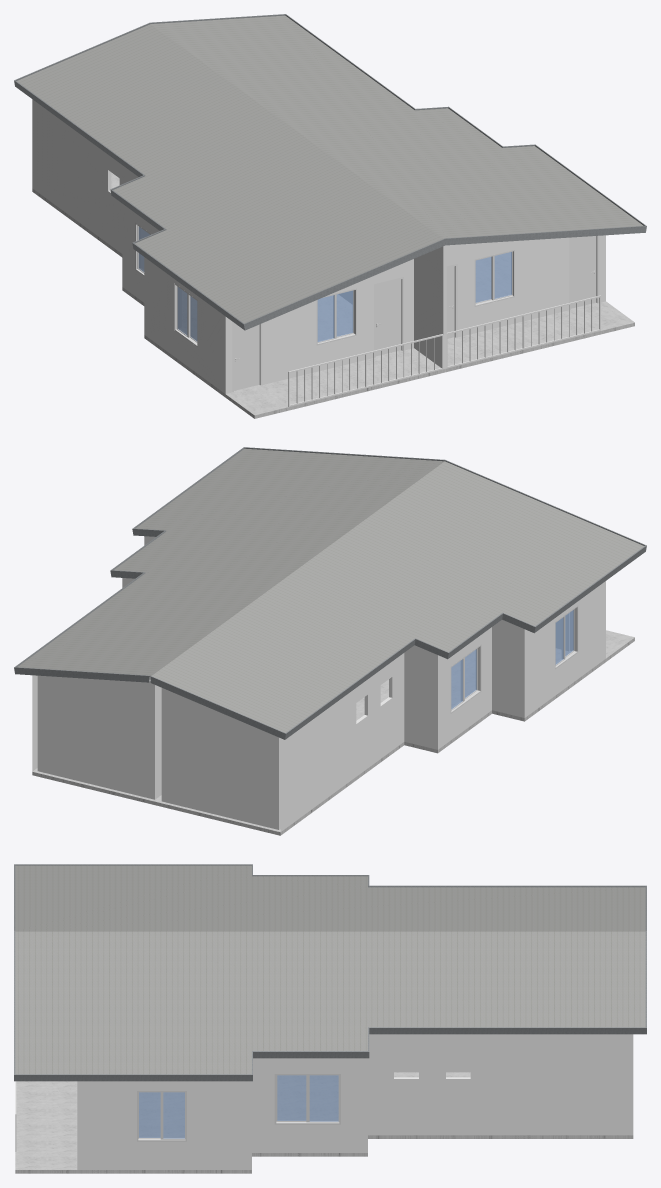
Rendered from house_4.glb.
3 renders of one model, top to bottom at view 1: azimuth 30°, elevation 25°; view 2: azimuth 150°, elevation 25°; view 3: azimuth 270°, elevation 25°, orthographic. The views are drawn at different scales.
Visible parts, largest first — view 1: house_4; view 2: house_4; view 3: house_4.
Boxes of the visible parts, <box> form: house_4: <box>14,14,646,418</box>; house_4: <box>14,447,646,835</box>; house_4: <box>14,864,646,1173</box>.
Size of the model in its own units: 12.01 by 3.82 by 15.25.
Materials: 8 (3 with a texture image).
